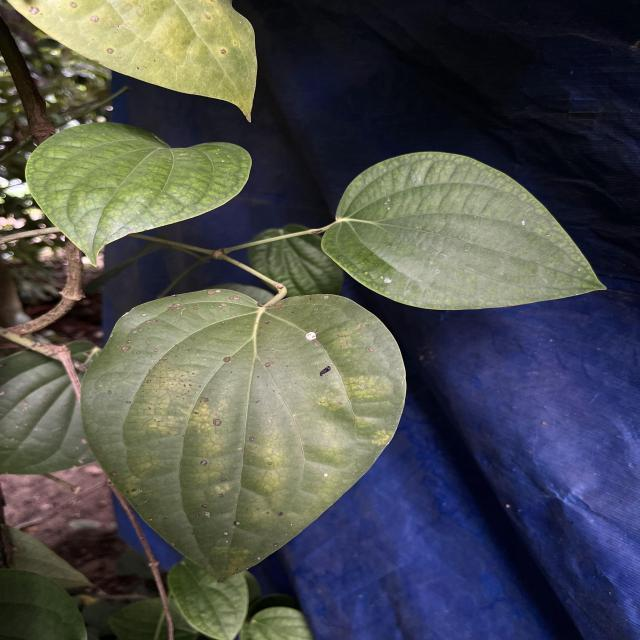Piper nigrum: (78, 286, 409, 586), (320, 150, 610, 312), (24, 120, 254, 269)
